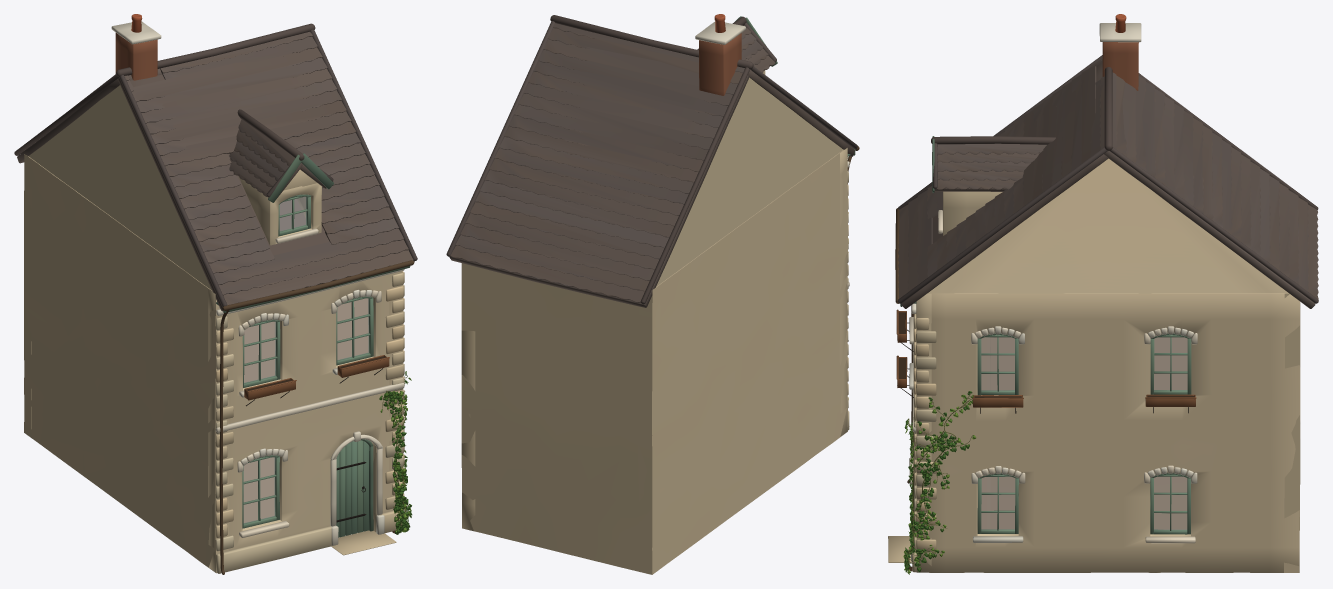
Rendered from GateStreet_BehindInner2.glb.
3 renders of one model, left to right at view 1: azimuth 30°, elevation 25°; view 2: azimuth 150°, elevation 25°; view 3: azimuth 270°, elevation 25°, orthographic. The views are drawn at different scales.
Visible parts, largest first — view 1: Sammel Quader, Sammel Stein, Sammel Lack, Sammel Putz, Glas, Sammel Putz innen, Sammel Metall, Sammel Pflanze, Sammel Ziegel, Sammel Holz; view 2: Sammel Quader, Sammel Stein, Sammel Ziegel, Sammel Putz; view 3: Sammel Quader, Sammel Stein, Sammel Putz innen, Glas, Sammel Putz, Sammel Lack, Sammel Pflanze, Sammel Holz, Sammel Ziegel, Sammel Metall.
Boxes of the visible parts, <box> form: Sammel Quader: <box>24,85,402,573</box>; Sammel Stein: <box>14,23,417,573</box>; Sammel Lack: <box>216,153,410,537</box>; Sammel Putz: <box>111,14,408,545</box>; Glas: <box>244,197,368,523</box>; Sammel Putz innen: <box>243,298,368,522</box>; Sammel Metall: <box>219,260,414,574</box>; Sammel Pflanze: <box>379,371,412,534</box>; Sammel Ziegel: <box>115,33,157,80</box>; Sammel Holz: <box>244,355,389,400</box>; Sammel Quader: <box>461,70,847,574</box>; Sammel Stein: <box>446,15,857,430</box>; Sammel Ziegel: <box>699,33,741,95</box>; Sammel Putz: <box>695,14,849,286</box>; Sammel Quader: <box>916,158,1300,572</box>; Sammel Stein: <box>888,55,1318,572</box>; Sammel Putz innen: <box>981,337,1187,529</box>; Glas: <box>981,337,1187,529</box>; Sammel Putz: <box>898,14,1197,571</box>; Sammel Lack: <box>900,136,1191,534</box>; Sammel Pflanze: <box>903,391,976,574</box>; Sammel Holz: <box>896,309,1196,407</box>; Sammel Ziegel: <box>1102,42,1138,90</box>; Sammel Metall: <box>895,208,1188,483</box>.
Size of the model in its own units: 4.99 by 11.02 by 8.99.
